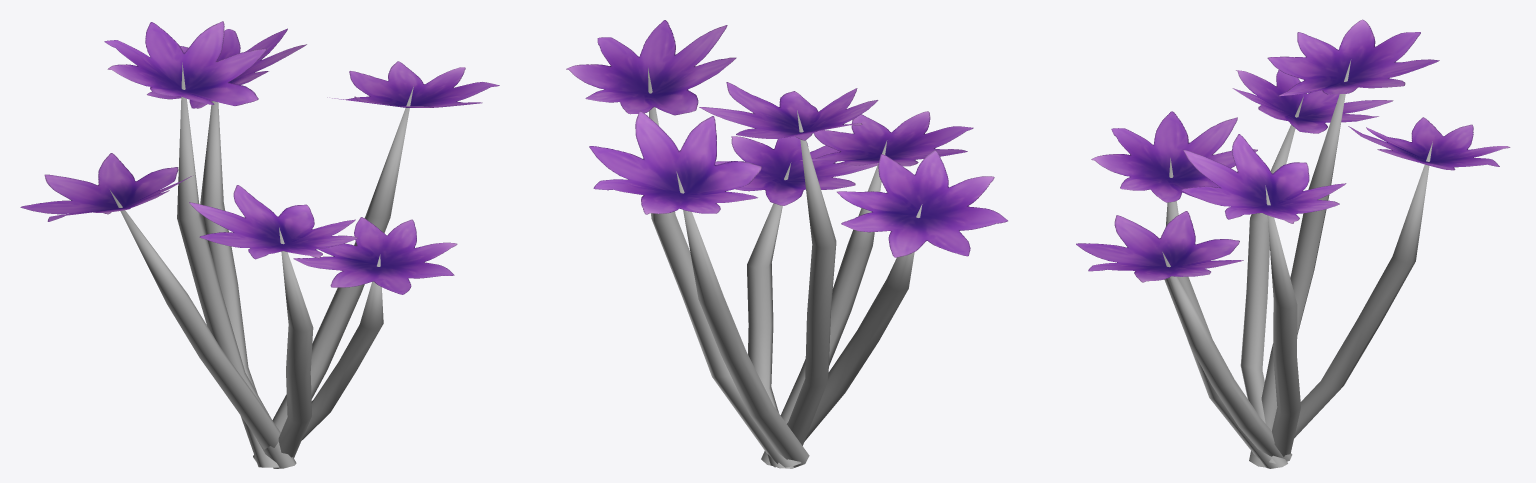
File: flower.fbx
3 views of the same model, side by side, from view 1: azimuth 30°, elevation 25°; view 2: azimuth 150°, elevation 25°; view 3: azimuth 270°, elevation 25° (orthographic). The views are drawn at different scales.
Parts seen in each view (by area): view 1: flower; view 2: flower; view 3: flower.
Part boxes in pixels (x1,y1,x2,y2): flower: [20, 21, 499, 468]; flower: [566, 20, 1007, 468]; flower: [1076, 19, 1510, 468].
Size of the model in its own units: 26.55 by 21.49 by 23.21.
